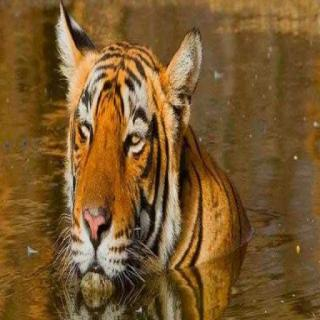Tiger: (27, 0, 261, 282)
